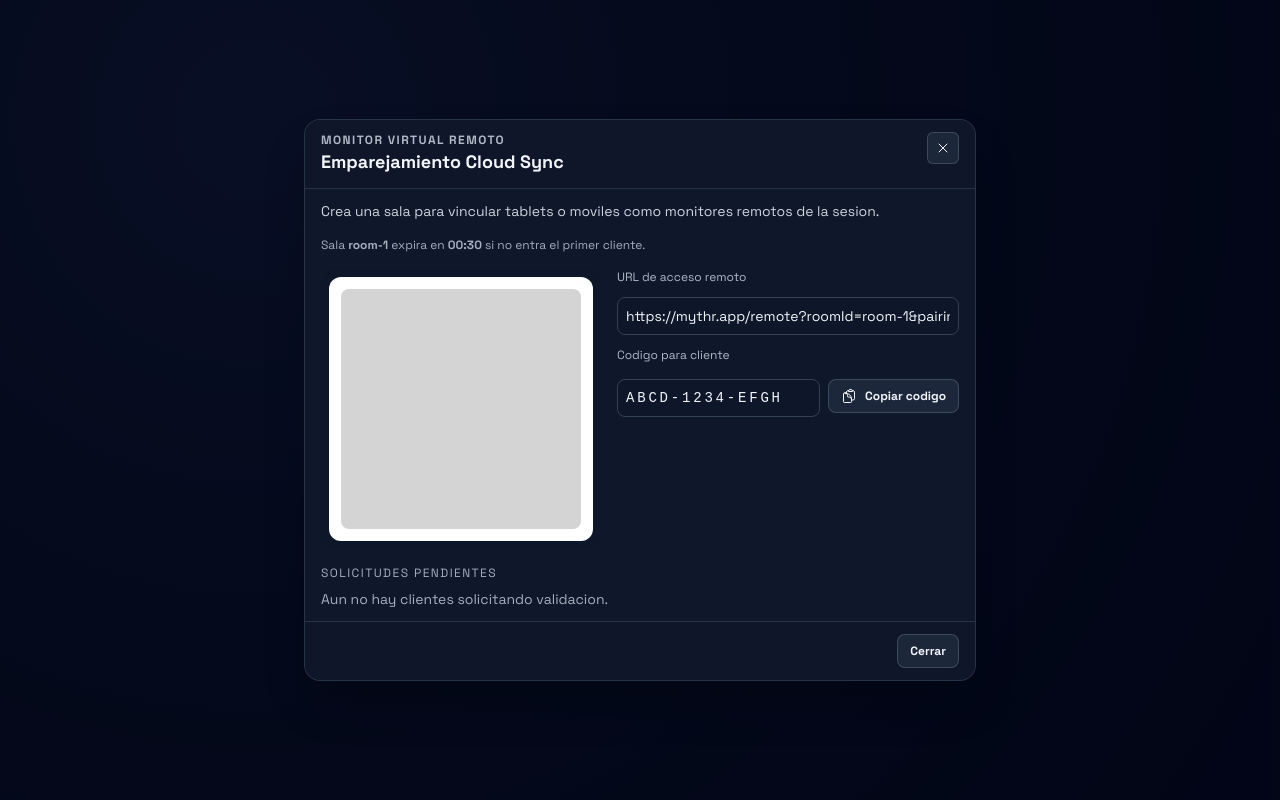
components/RemotePairingModal › copia el codigo de cliente usando navigator.clipboard
This screenshot has width=1280, height=800.
Click the button with test id "remote-pairing-copy-code": (894, 396) [828, 379, 959, 413]
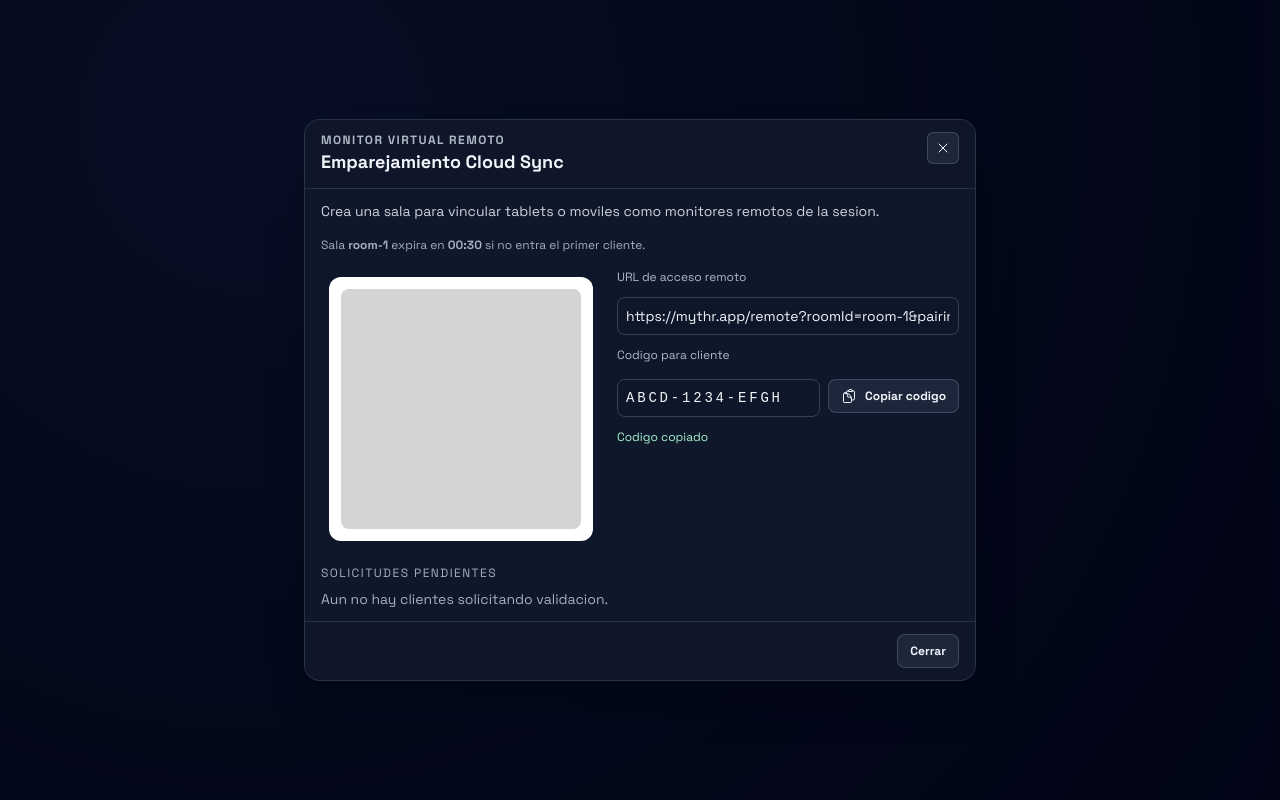
Expected: the message with test id "remote-pairing-copy-feedback" reads "Codigo copiado", [617, 429, 708, 445]
